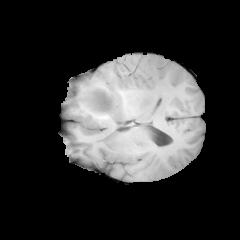glioma: (64, 80, 133, 133)
